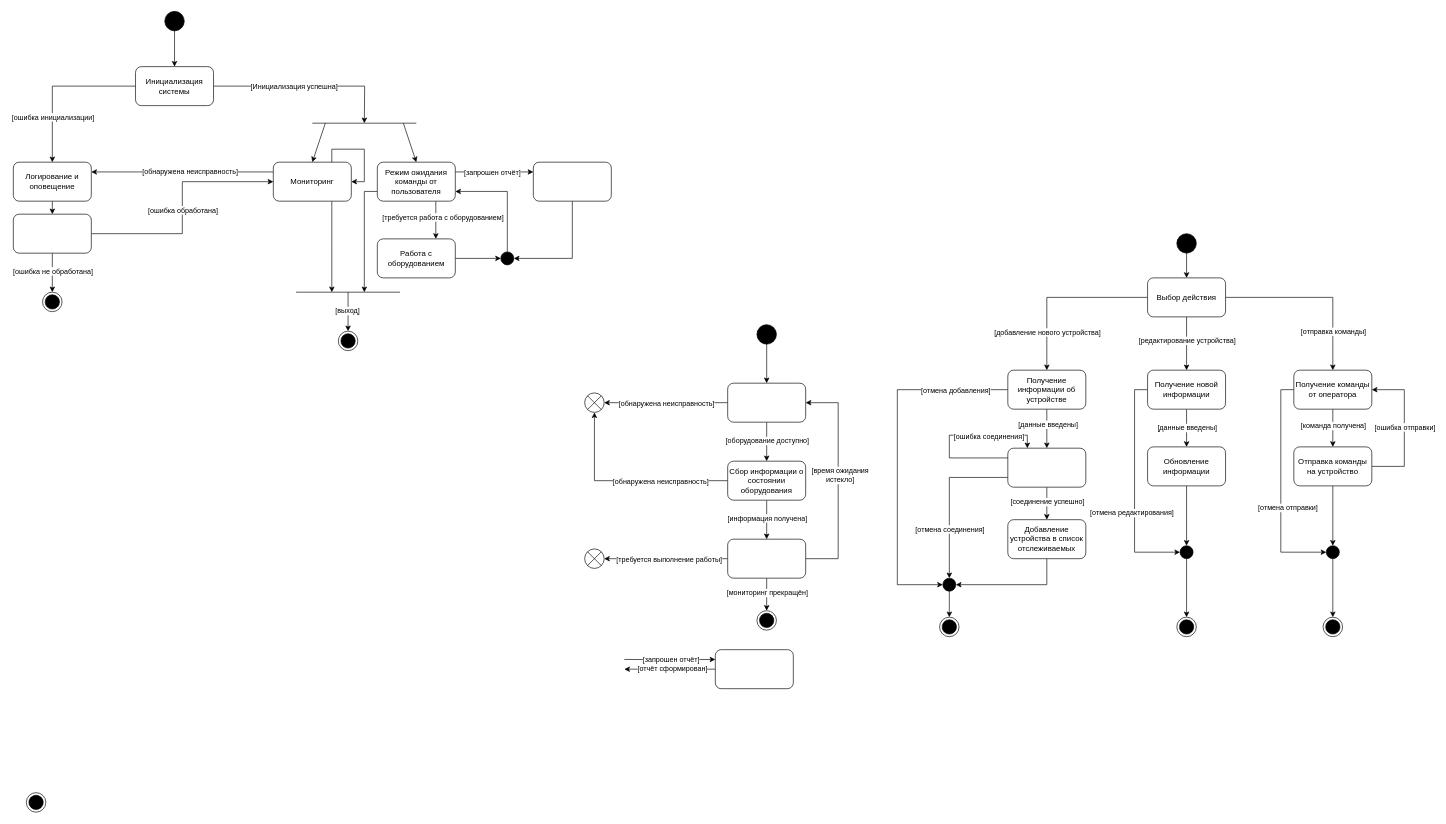
Some shapes in this 1446 by 824 pixel diagram are drawn without their labels. The centre of each missing label's shape, as x and y in pixels:
Опрос оборудования: the point at 766,402
Режим диагностики и восстановления: the point at 52,233
Режим ожидания: the point at 766,558
Соединение с устройством: the point at 1046,467
Составление отчёта: the point at 754,669
Формирование отчёта: the point at 572,181
